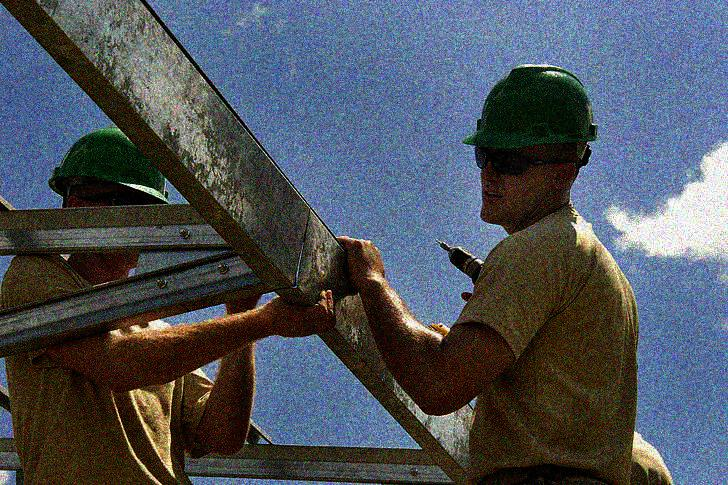helmet: (461, 60, 601, 227), (46, 126, 175, 269)
